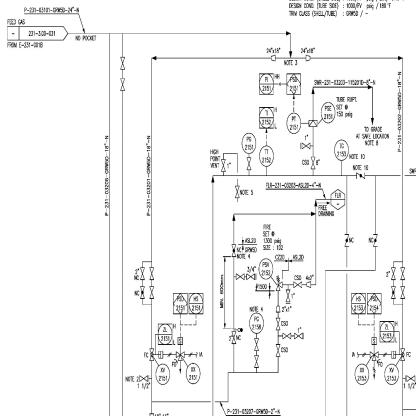LMI: (333, 134, 349, 161), (258, 256, 274, 280), (249, 312, 266, 334), (240, 132, 257, 154), (353, 364, 369, 387), (384, 362, 399, 386), (259, 145, 275, 167), (321, 99, 335, 124), (186, 363, 201, 385), (156, 363, 170, 386), (287, 113, 301, 135)
TAG: (258, 103, 274, 129), (257, 72, 274, 96), (378, 319, 394, 344), (351, 291, 366, 315), (188, 292, 204, 314), (158, 323, 172, 347)
